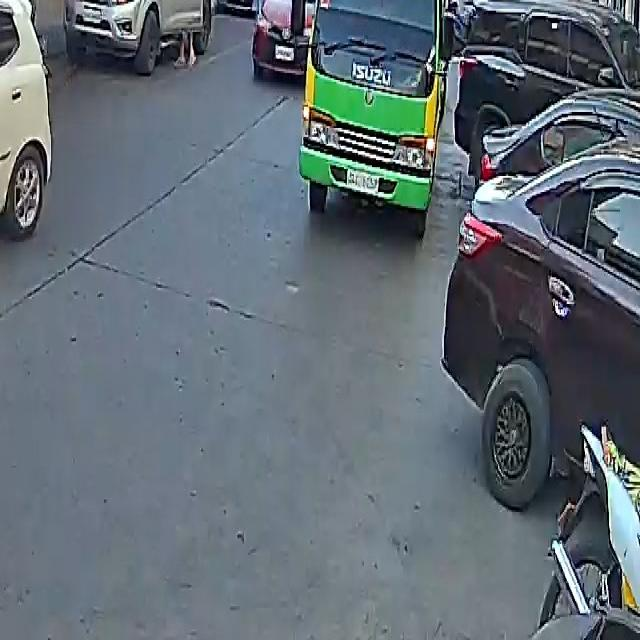car: (441, 66, 640, 530), (451, 0, 639, 181), (0, 0, 61, 315), (62, 0, 216, 78), (249, 0, 320, 78), (224, 0, 289, 18)
